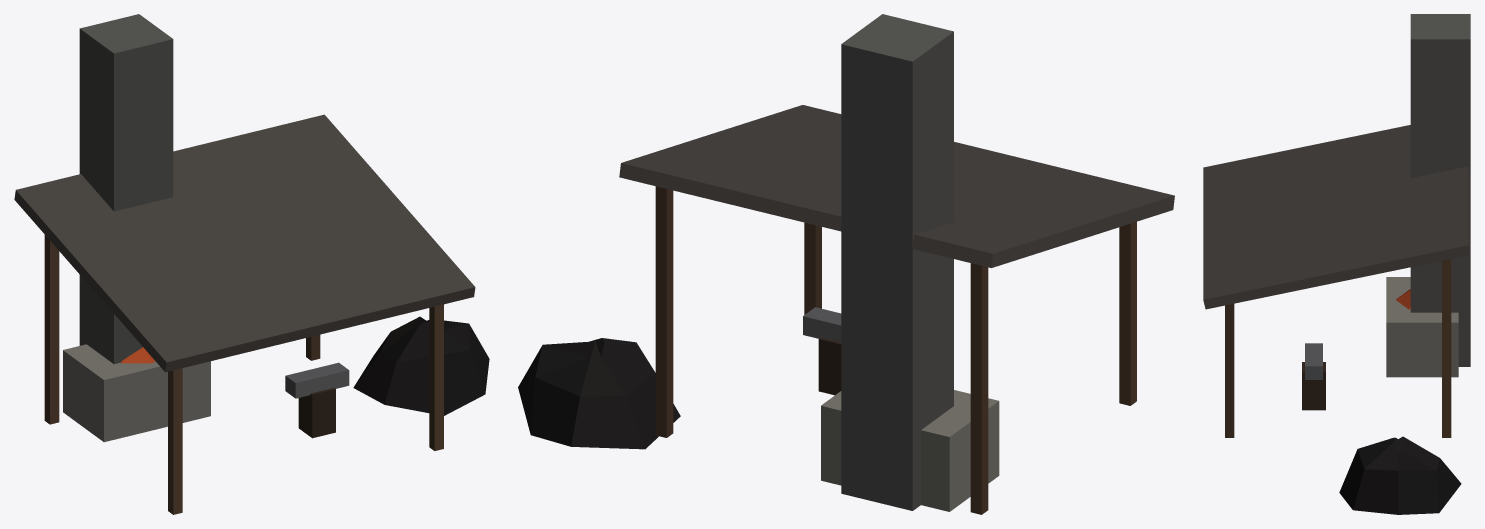
Rendered from yard_forge.glb.
3 views of the same model, side by side, from view 1: azimuth 30°, elevation 25°; view 2: azimuth 150°, elevation 25°; view 3: azimuth 270°, elevation 25° (orthographic). The views are drawn at different scales.
Visible parts, largest first — view 1: yard_forge; view 2: yard_forge; view 3: yard_forge.
Part boxes in pixels (x1,y1,x2,y2): yard_forge: (14, 14, 489, 514); yard_forge: (518, 14, 1174, 514); yard_forge: (1203, 14, 1470, 514).
Bounding box in the file's own units: 7.31 × 6.51 × 4.44.
2 materials, 2 textured.
